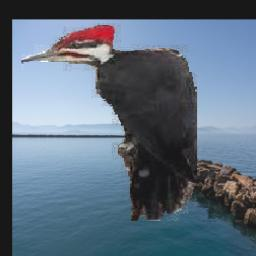Woodpecker: (20, 23, 196, 221)
